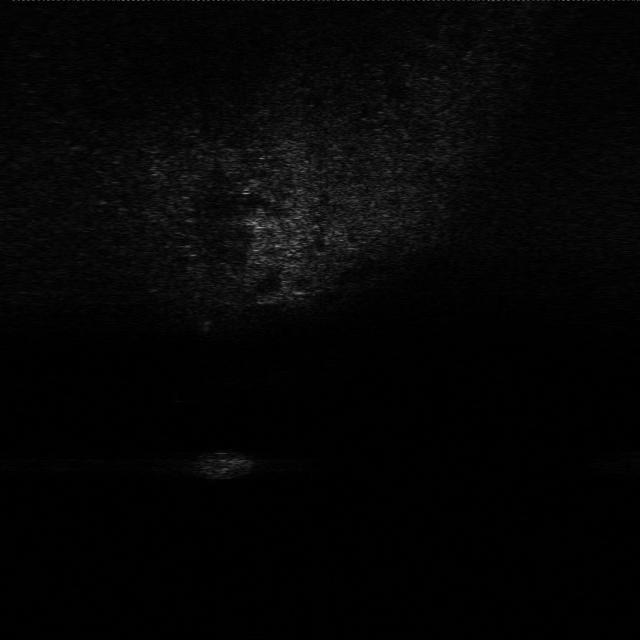circle cage: (184, 451, 260, 481)
